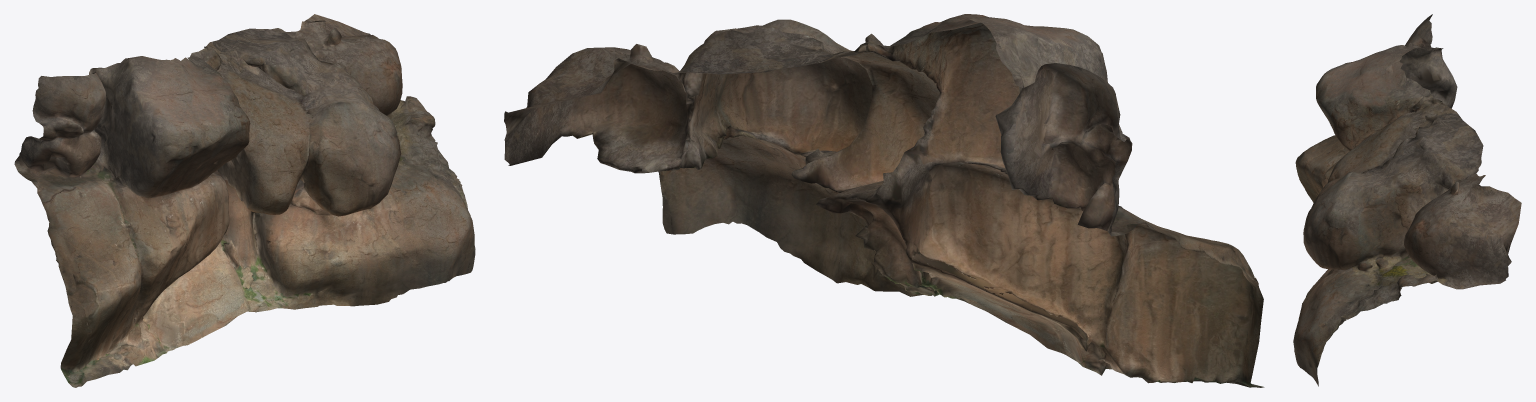
The model's file is rock_spire.glb.
3 views of the same model, side by side, from view 1: azimuth 30°, elevation 25°; view 2: azimuth 150°, elevation 25°; view 3: azimuth 270°, elevation 25° (orthographic). The views are drawn at different scales.
Visible parts, largest first — view 1: rock_spire; view 2: rock_spire; view 3: rock_spire.
Boxes of the visible parts, x1,y1,x2,y2 form: rock_spire: (14, 14, 475, 387); rock_spire: (504, 14, 1264, 387); rock_spire: (1293, 14, 1521, 386).
Size of the model in its own units: 8.28 by 4.96 by 4.39.
Materials: 1 (1 with a texture image).
